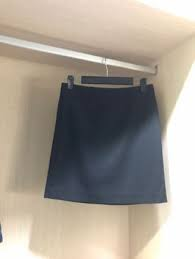F_tailored skirt: (39, 76, 177, 211)
